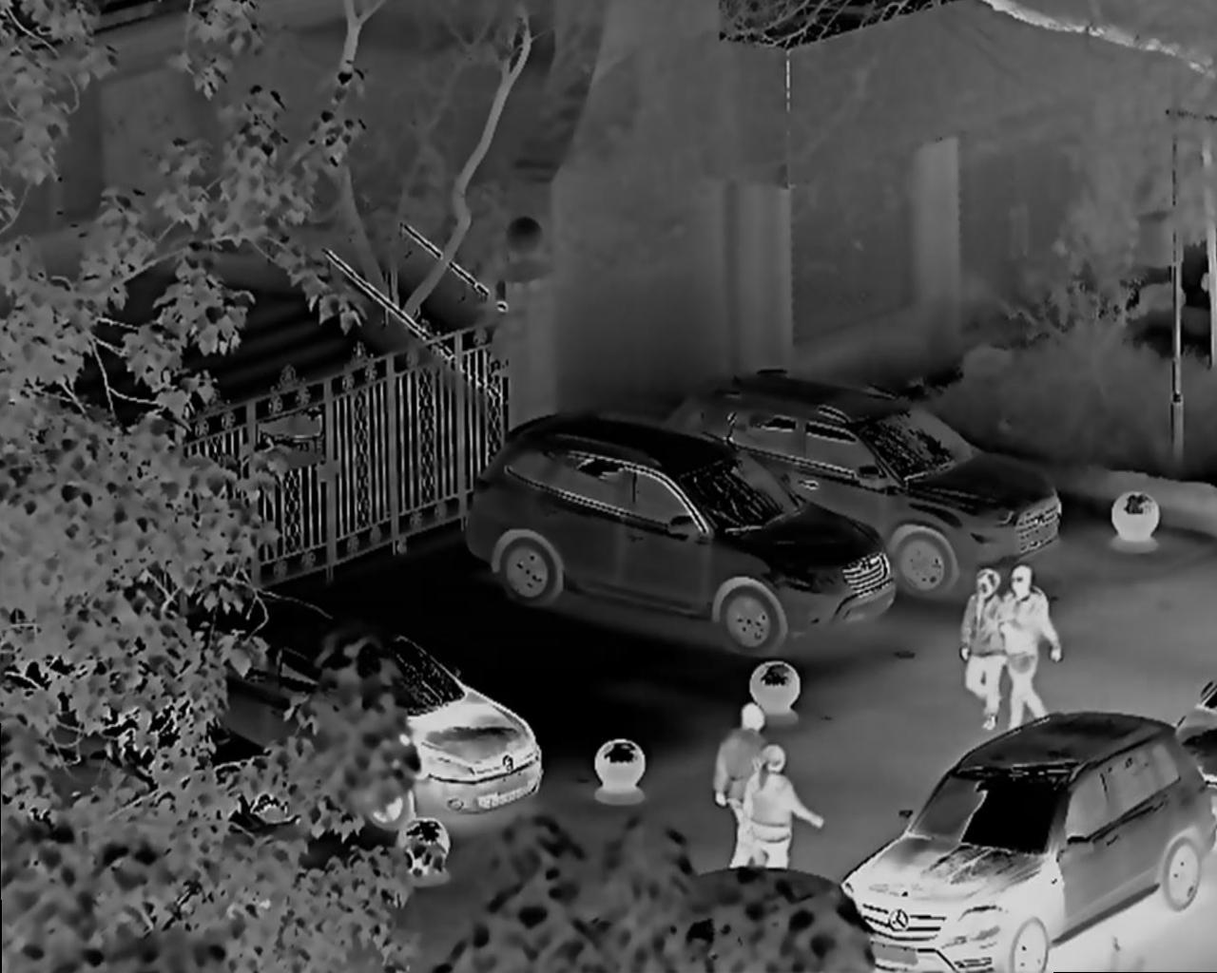person: (993, 559, 1061, 724), (743, 745, 818, 878), (714, 698, 765, 873), (967, 569, 990, 732)
